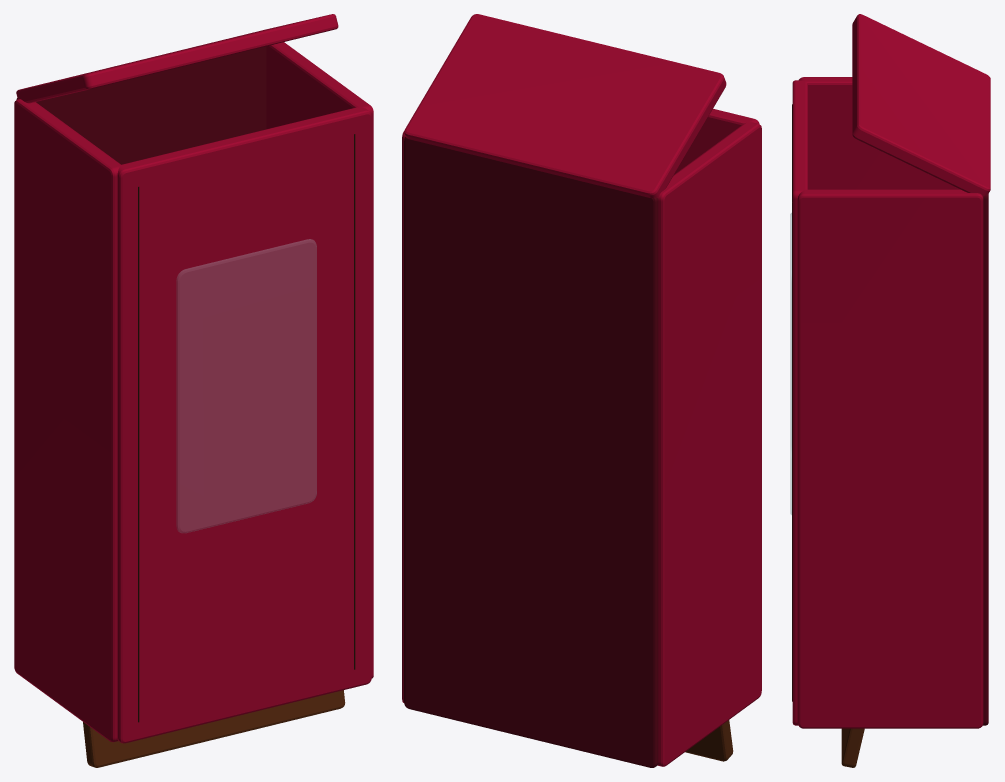
File: orinscare_cosmetic_box_v6_realistic.web.glb
The picture shows the model from 3 angles, left to right: view 1: azimuth 30°, elevation 25°; view 2: azimuth 150°, elevation 25°; view 3: azimuth 270°, elevation 25°; orthographic projection. The views are drawn at different scales.
Visible parts, largest first — view 1: front_panel_pink_window_frame, left_side_panel_kraft_edge_visible, transparent_pet_display_window, back_panel_pink_with_fold_scores, right_side_panel_pink_with_vertical_seam, top_flap_open_with_insert_tongue, bottom_tucked_flap, vertical_carton_score_-0.675, vertical_carton_score_0.675; view 2: back_panel_pink_with_fold_scores, left_side_panel_kraft_edge_visible, top_flap_open_with_insert_tongue, front_panel_pink_window_frame, right_side_panel_pink_with_vertical_seam, bottom_tucked_flap; view 3: right_side_panel_pink_with_vertical_seam, top_flap_open_with_insert_tongue, left_side_panel_kraft_edge_visible, front_panel_pink_window_frame, back_panel_pink_with_fold_scores, bottom_tucked_flap, transparent_pet_display_window, vertical_carton_score_0.675.
Part boxes in pixels (box(x1,y1,x2,y2)): front_panel_pink_window_frame: box(117, 107, 371, 743); left_side_panel_kraft_edge_visible: box(14, 99, 120, 742); transparent_pet_display_window: box(176, 239, 316, 532); back_panel_pink_with_fold_scores: box(16, 46, 266, 164); right_side_panel_pink_with_vertical_seam: box(266, 42, 373, 678); top_flap_open_with_insert_tongue: box(16, 14, 338, 103); bottom_tucked_flap: box(83, 690, 345, 767); vertical_carton_score_-0.675: box(138, 186, 139, 722); vertical_carton_score_0.675: box(354, 134, 355, 669); back_panel_pink_with_fold_scores: box(404, 137, 658, 767); left_side_panel_kraft_edge_visible: box(658, 122, 761, 766); top_flap_open_with_insert_tongue: box(404, 14, 726, 197); front_panel_pink_window_frame: box(674, 108, 759, 174); right_side_panel_pink_with_vertical_seam: box(402, 130, 405, 702); bottom_tucked_flap: box(685, 720, 733, 761); right_side_panel_pink_with_vertical_seam: box(797, 189, 983, 728); top_flap_open_with_insert_tongue: box(852, 14, 990, 196); left_side_panel_kraft_edge_visible: box(799, 77, 960, 189); front_panel_pink_window_frame: box(792, 80, 807, 725); back_panel_pink_with_fold_scores: box(983, 194, 988, 725); bottom_tucked_flap: box(841, 728, 864, 767); transparent_pet_display_window: box(790, 213, 791, 514); vertical_carton_score_0.675: box(792, 202, 792, 701).
Bounding box in the file's own units: 1.64 × 4.12 × 1.17.
